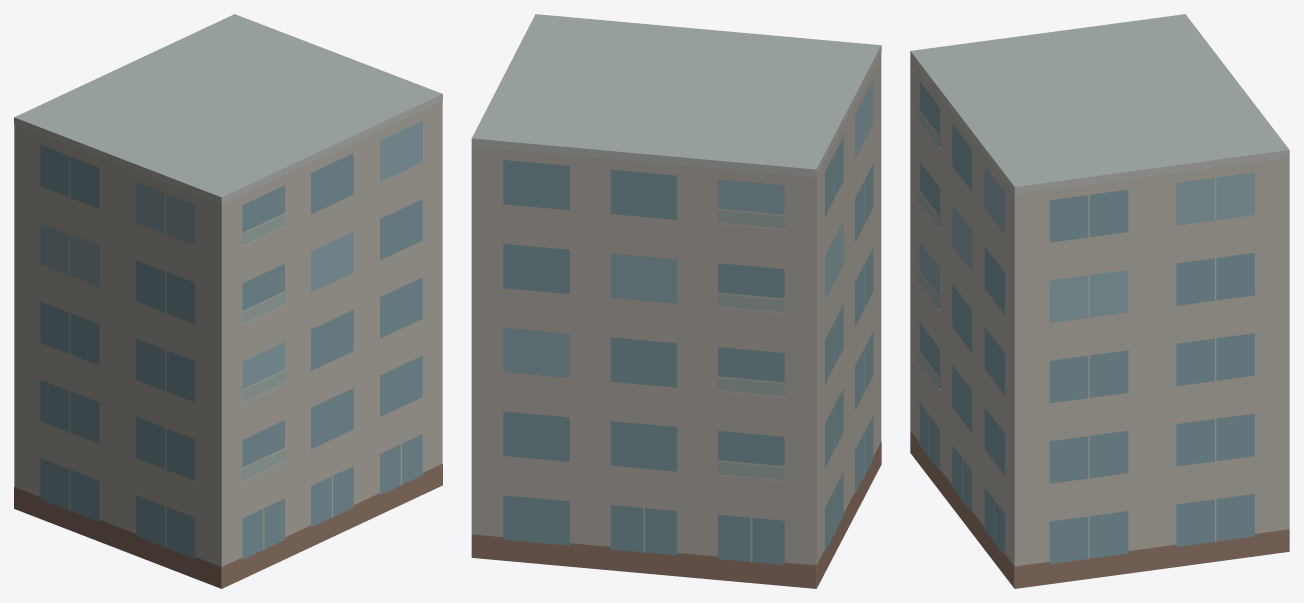
Rendered from survey-upis-32570831.glb.
3 renders of one model, left to right at view 1: azimuth 30°, elevation 25°; view 2: azimuth 150°, elevation 25°; view 3: azimuth 270°, elevation 25°, orthographic. The views are drawn at different scales.
Visible parts, largest first — view 1: survey-upis-32570831.tmp; view 2: survey-upis-32570831.tmp; view 3: survey-upis-32570831.tmp.
Part boxes in pixels (x1,y1,x2,y2): survey-upis-32570831.tmp: (14, 14, 442, 588); survey-upis-32570831.tmp: (471, 14, 881, 588); survey-upis-32570831.tmp: (910, 14, 1289, 588).
Size of the model in its own units: 12.85 by 13.9 by 11.9.
